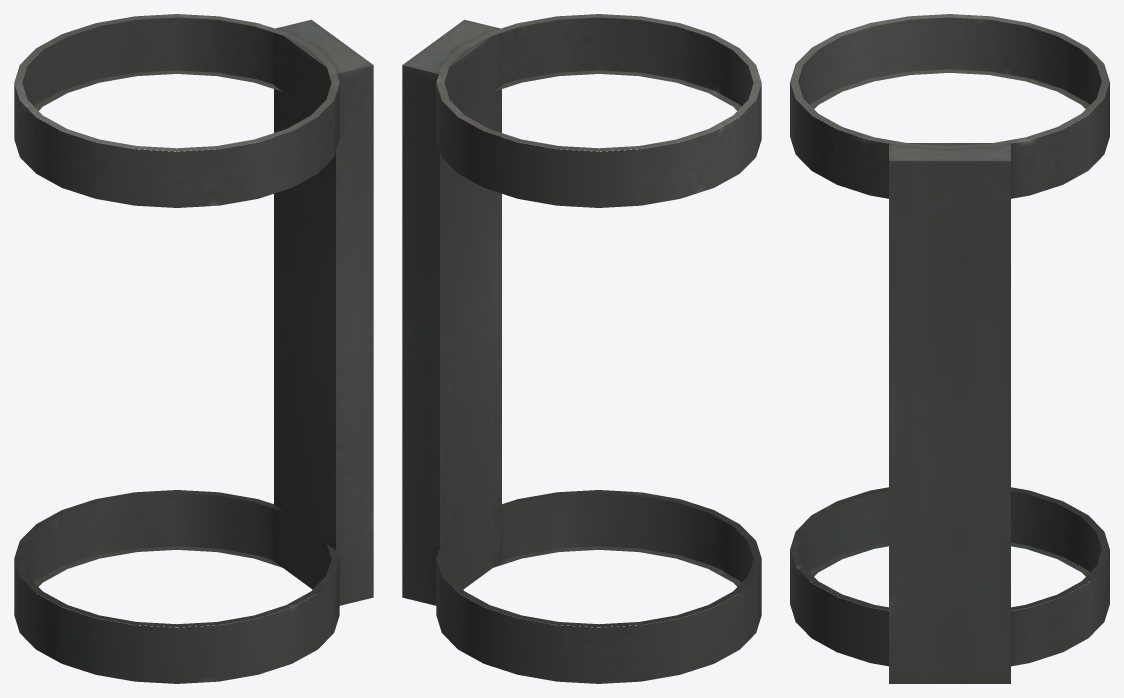
File: pedMountMast-v1.glb
3 views of the same model, side by side, from view 1: azimuth 30°, elevation 25°; view 2: azimuth 150°, elevation 25°; view 3: azimuth 270°, elevation 25° (orthographic).
Visible parts, largest first — view 1: pedMountMast-v1; view 2: pedMountMast-v1; view 3: pedMountMast-v1.
Part boxes in pixels (box(x1,y1,x2,y2)): pedMountMast-v1: box(14, 14, 373, 683); pedMountMast-v1: box(402, 14, 761, 683); pedMountMast-v1: box(790, 14, 1109, 683).
Bounding box in the file's own units: 0.2845 × 0.4721 × 0.2615.
Materials: 1 (1 with a texture image).
